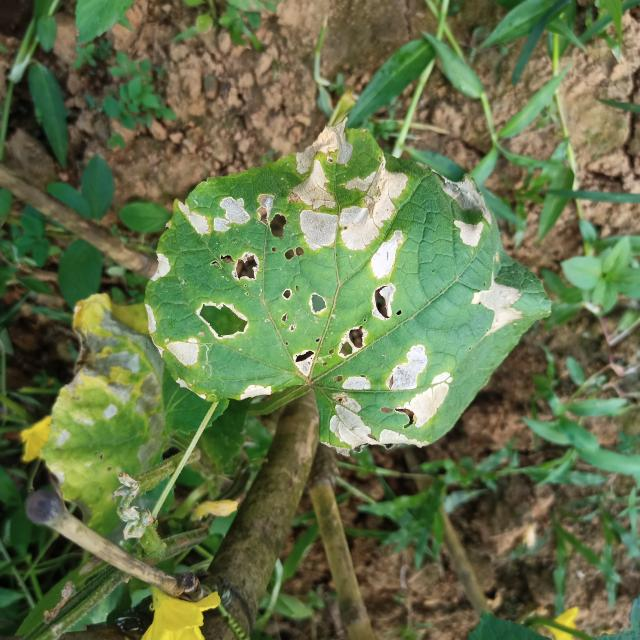disease_cucumber: (147, 122, 524, 452)
